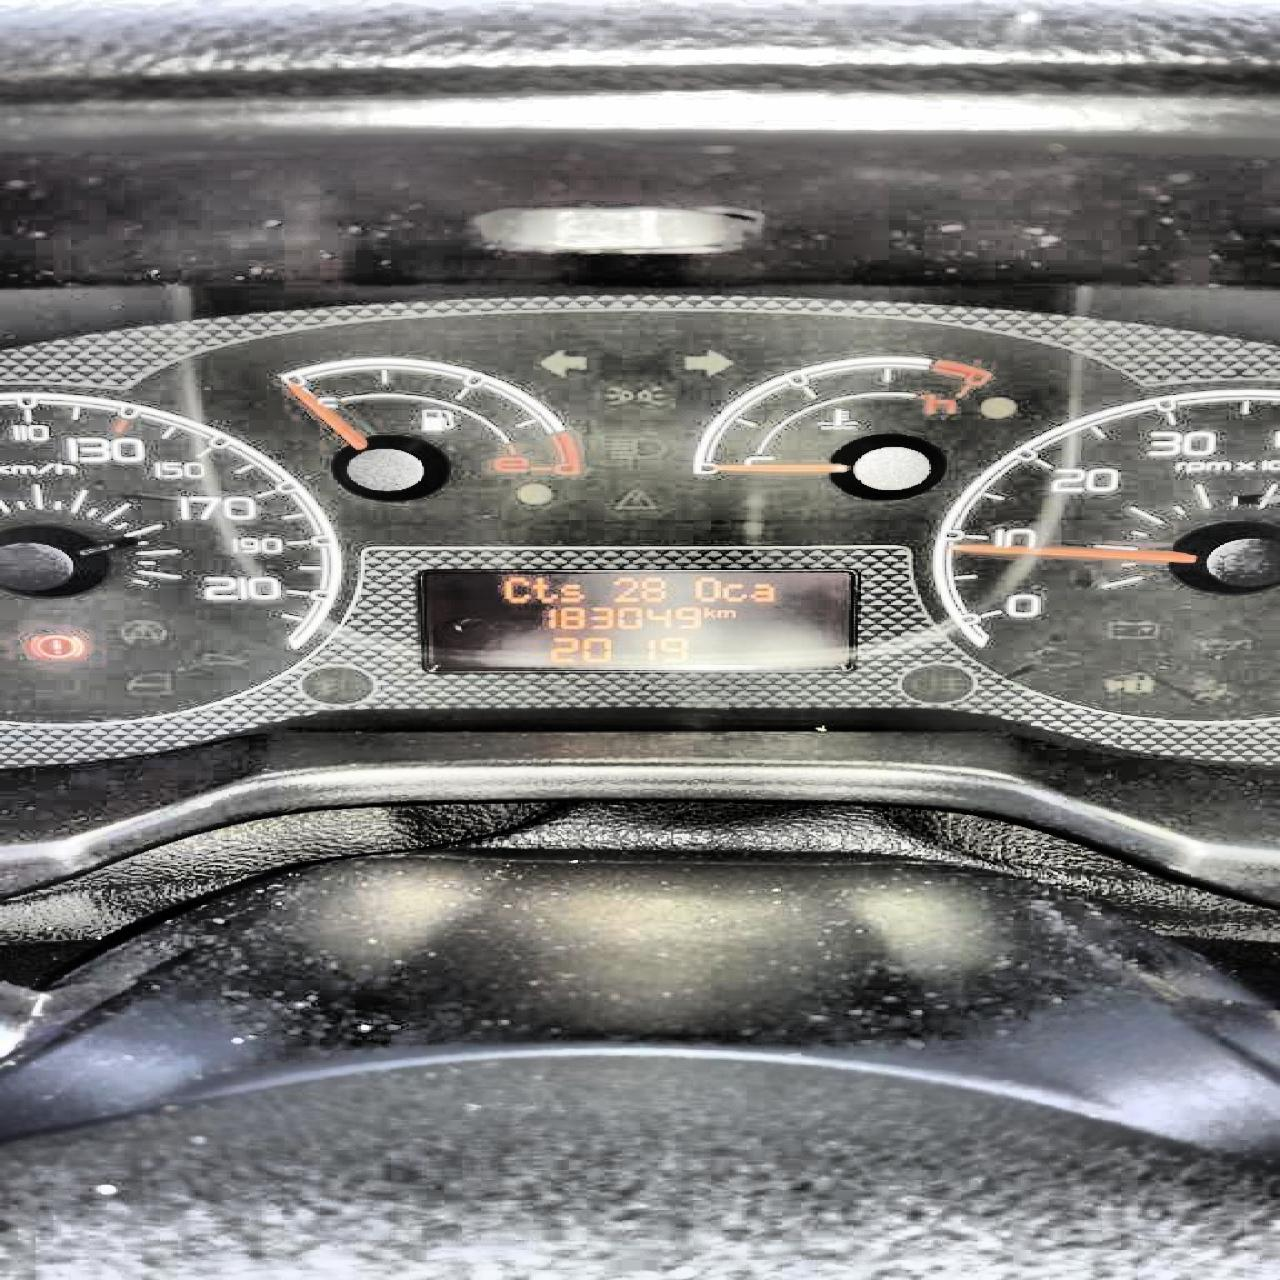0: (580, 636, 611, 661), (615, 606, 642, 628)
1: (645, 638, 655, 660), (545, 607, 556, 628)
2: (546, 636, 578, 661), (611, 577, 640, 601)
3: (587, 606, 611, 628)
4: (645, 607, 672, 627)
8: (638, 577, 665, 601), (556, 606, 585, 628)
9: (655, 636, 689, 661), (673, 606, 700, 628)
X: (502, 577, 531, 602), (692, 576, 720, 600), (531, 577, 556, 601), (720, 583, 747, 601), (749, 583, 774, 601), (558, 583, 583, 601), (700, 606, 716, 619), (714, 608, 734, 618)
odometer: (414, 567, 858, 673)
